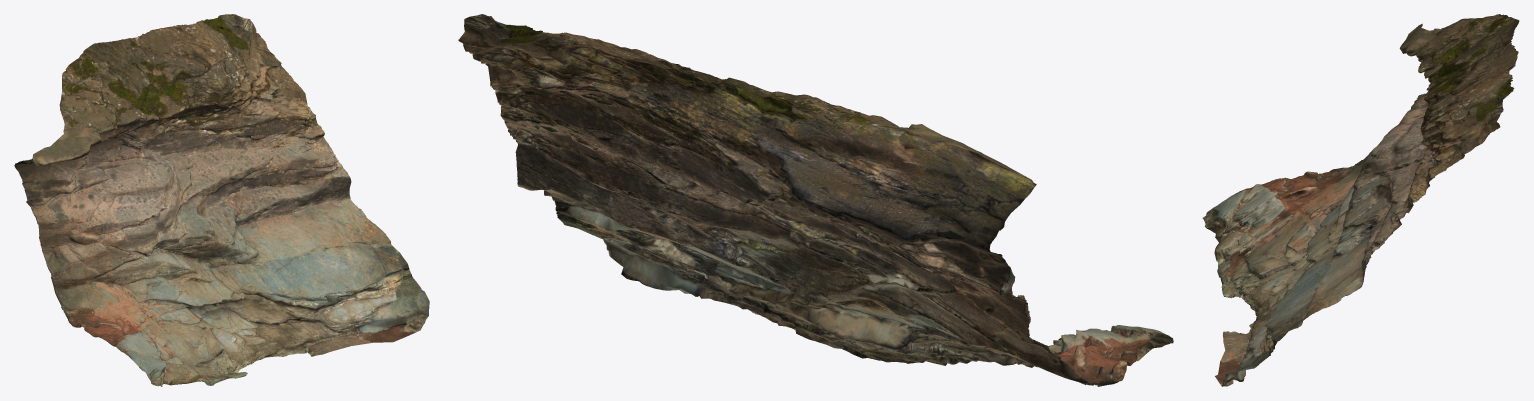
The model's file is rock_face_01.glb.
The picture shows the model from 3 angles, left to right: view 1: azimuth 30°, elevation 25°; view 2: azimuth 150°, elevation 25°; view 3: azimuth 270°, elevation 25°; orthographic projection. The views are drawn at different scales.
Visible parts, largest first — view 1: rock_face_01; view 2: rock_face_01; view 3: rock_face_01.
Part boxes in pixels (box(x1,y1,x2,y2)): rock_face_01: box(14, 14, 429, 386); rock_face_01: box(458, 14, 1173, 386); rock_face_01: box(1202, 14, 1519, 386).
Bounding box in the file's own units: 4.95 × 3.56 × 3.83.
1 material, 1 textured.
